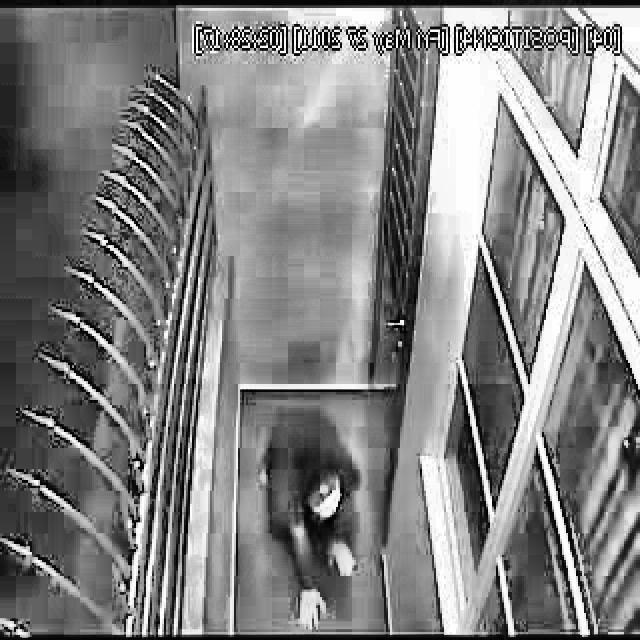burglary: (255, 392, 371, 632)
